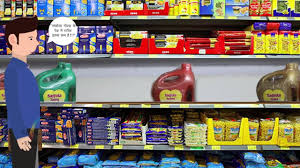saffola: (151, 63, 195, 101), (257, 63, 299, 100)
